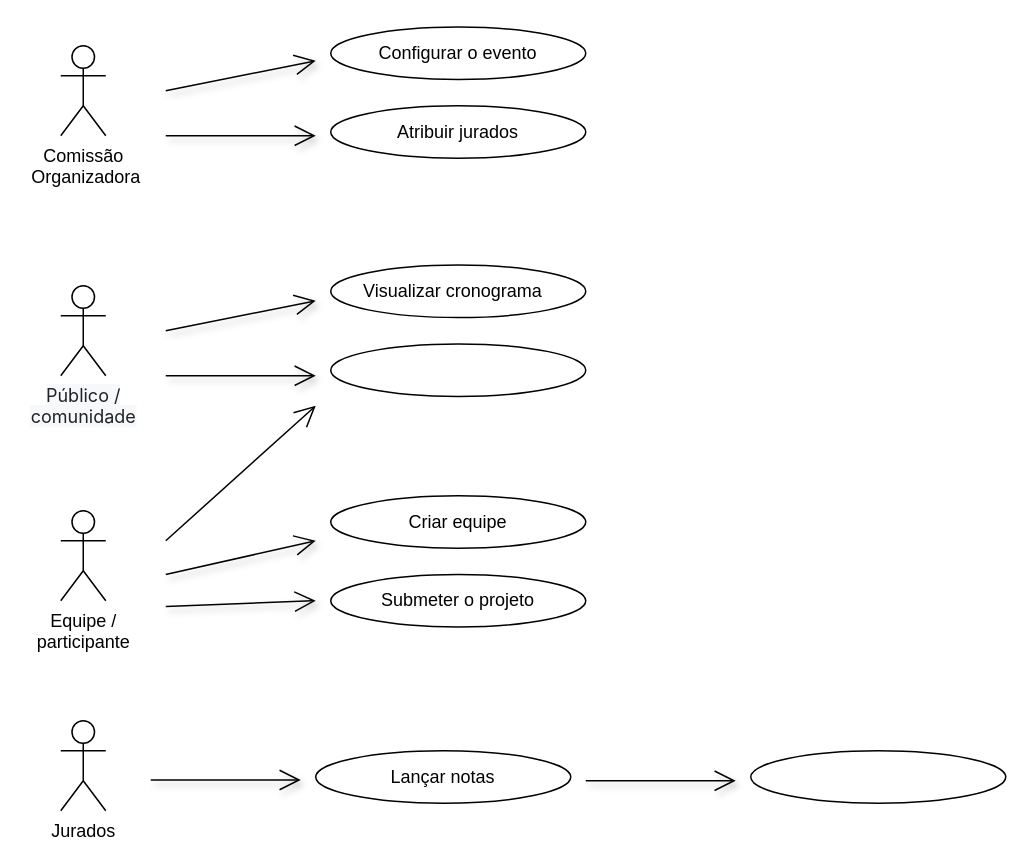
The diagram is 1032 pixels wide and 867 high, and some of its shapes have lost their labels. The centre of each missing label's shape, as x and y in pixels:
"Acompanhar resultados" goes at (457,369).
"Avaliar projetos" goes at (877,776).
